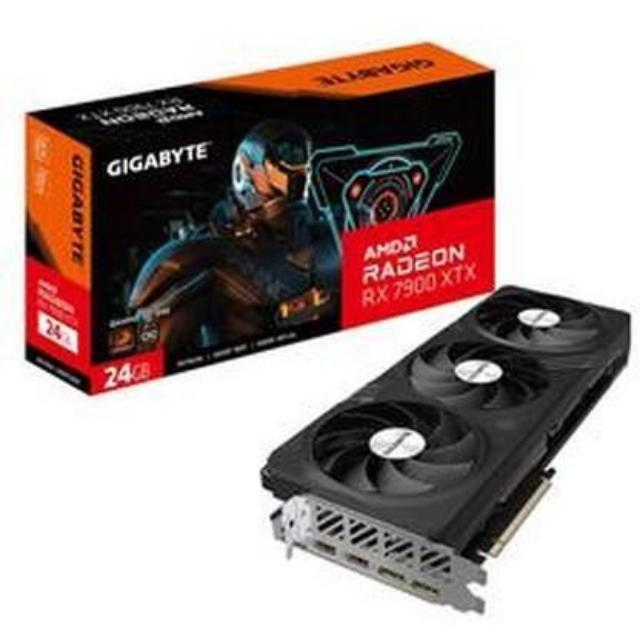GPU: (261, 281, 633, 610)
